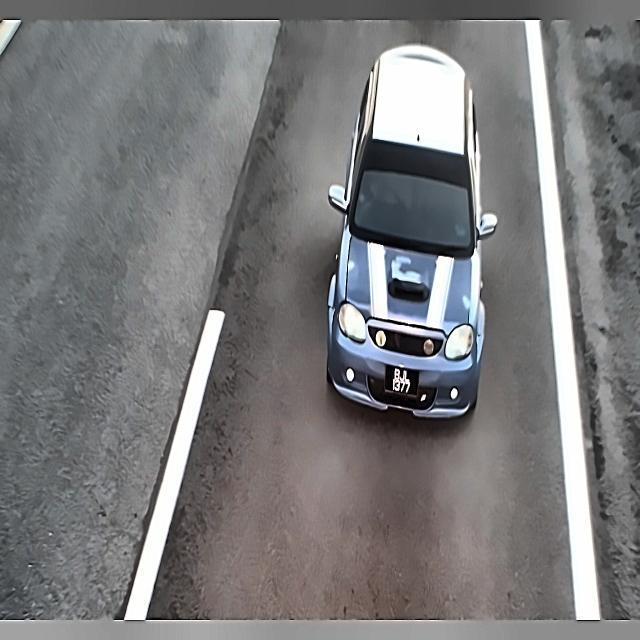car: (384, 362, 418, 403)
